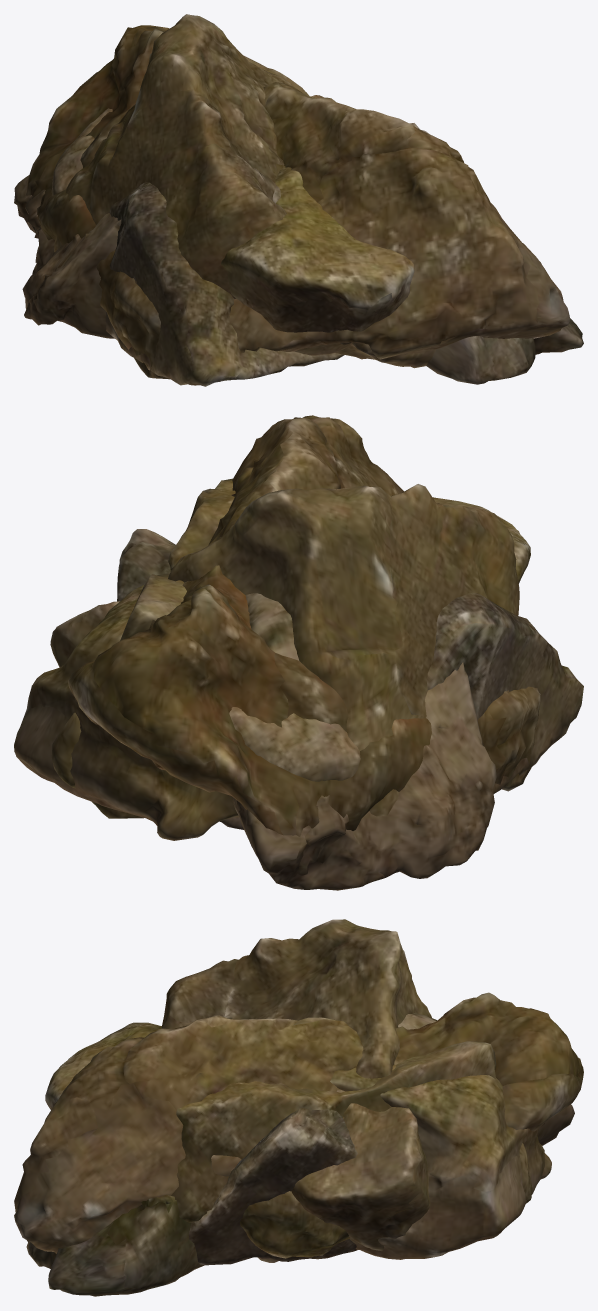
File: rock_moss_set_01.glb
The picture shows the model from 3 angles, top to bottom: view 1: azimuth 30°, elevation 25°; view 2: azimuth 150°, elevation 25°; view 3: azimuth 270°, elevation 25°; orthographic projection. The views are drawn at different scales.
Visible parts, largest first — view 1: rock_moss_set_01_rock01, rock_moss_set_01_rock04, rock_moss_set_01_rock05, rock_moss_set_01_rock03, rock_moss_set_01_rock02, rock_moss_set_01_rock06; view 2: rock_moss_set_01_rock01, rock_moss_set_01_rock04, rock_moss_set_01_rock02, rock_moss_set_01_rock05, rock_moss_set_01_rock03, rock_moss_set_01_rock06; view 3: rock_moss_set_01_rock01, rock_moss_set_01_rock04, rock_moss_set_01_rock05, rock_moss_set_01_rock06, rock_moss_set_01_rock02, rock_moss_set_01_rock03.
Boxes of the visible parts, bbox=[...] form: rock_moss_set_01_rock01: bbox=[25, 25, 570, 379]; rock_moss_set_01_rock04: bbox=[54, 14, 324, 298]; rock_moss_set_01_rock05: bbox=[51, 92, 414, 355]; rock_moss_set_01_rock03: bbox=[105, 123, 428, 386]; rock_moss_set_01_rock02: bbox=[14, 175, 583, 384]; rock_moss_set_01_rock06: bbox=[243, 55, 435, 368]; rock_moss_set_01_rock01: bbox=[68, 415, 540, 845]; rock_moss_set_01_rock04: bbox=[50, 484, 519, 816]; rock_moss_set_01_rock02: bbox=[232, 593, 496, 890]; rock_moss_set_01_rock05: bbox=[14, 497, 530, 840]; rock_moss_set_01_rock03: bbox=[117, 529, 583, 829]; rock_moss_set_01_rock06: bbox=[51, 478, 235, 818]; rock_moss_set_01_rock01: bbox=[14, 992, 583, 1262]; rock_moss_set_01_rock04: bbox=[161, 919, 431, 1251]; rock_moss_set_01_rock05: bbox=[45, 1022, 551, 1259]; rock_moss_set_01_rock06: bbox=[171, 1041, 532, 1258]; rock_moss_set_01_rock02: bbox=[26, 1013, 574, 1296]; rock_moss_set_01_rock03: bbox=[188, 1108, 358, 1265].
Size of the model in its own units: 2.66 by 1.77 by 3.37.
Materials: 1 (1 with a texture image).
